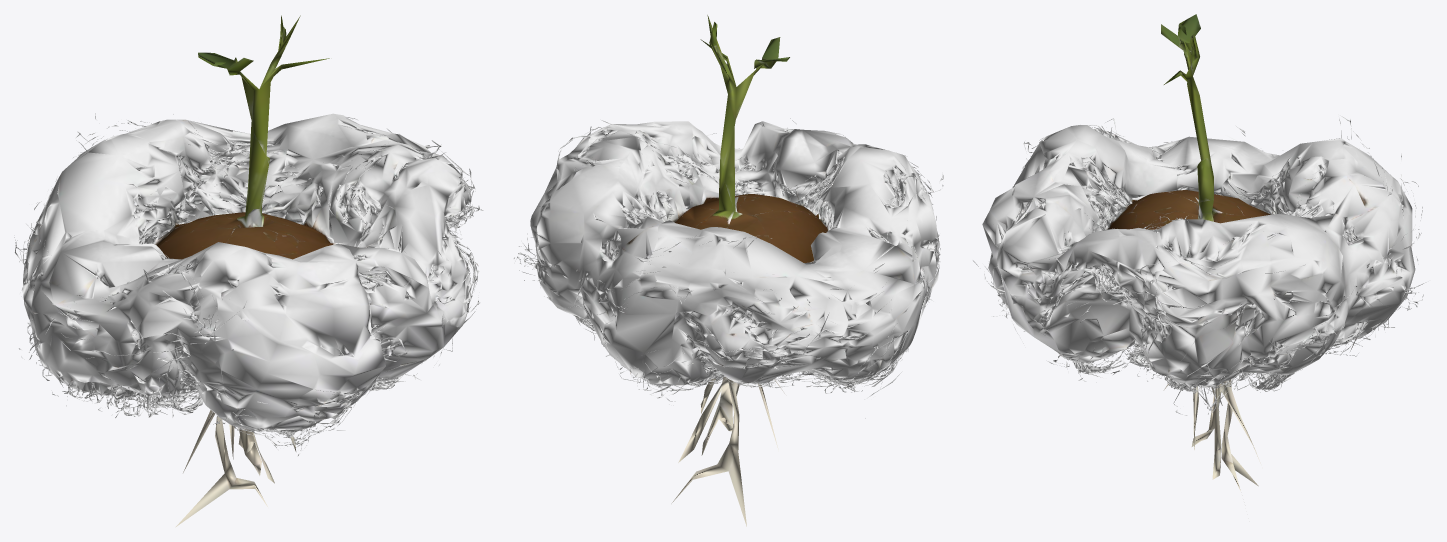
Rendered from lenteja_10ml_opt.glb.
The picture shows the model from 3 angles, left to right: view 1: azimuth 30°, elevation 25°; view 2: azimuth 150°, elevation 25°; view 3: azimuth 270°, elevation 25°; orthographic projection. The views are drawn at different scales.
Size of the model in its own units: 1.49 by 1.77 by 1.52.
1 material, 1 textured.
